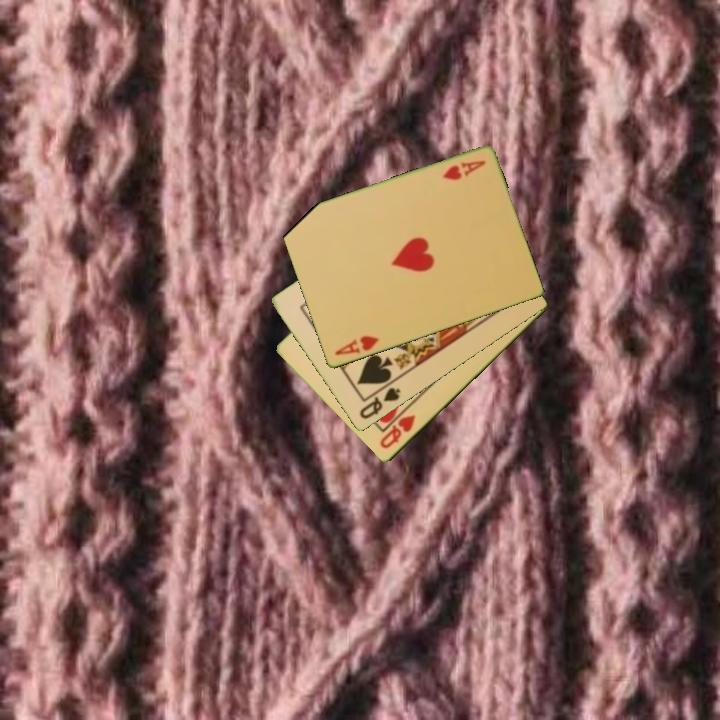Ah: (331, 332, 382, 359), (439, 157, 488, 183)
Qh: (376, 411, 419, 452)
Qs: (356, 384, 404, 422)
